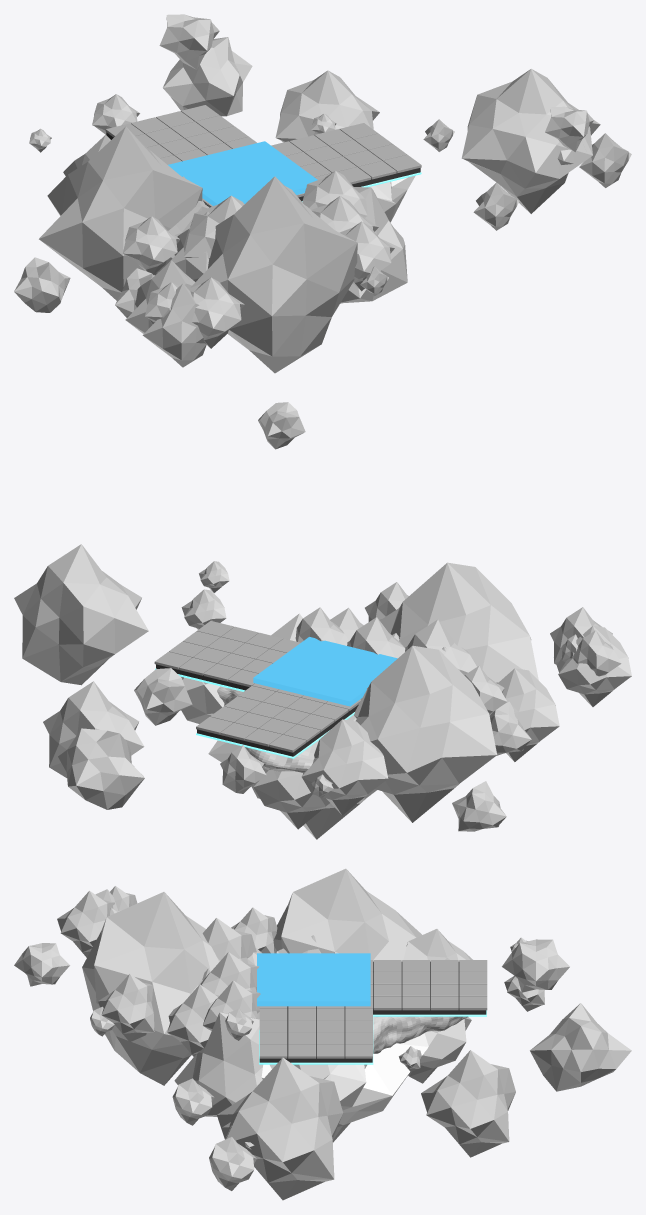
File: pulaubase1.glb
3 views of the same model, one above another, from view 1: azimuth 30°, elevation 25°; view 2: azimuth 150°, elevation 25°; view 3: azimuth 270°, elevation 25° (orthographic). The views are drawn at different scales.
Visible parts, largest first — view 1: RockAsset.008, RockAsset.016, RockAsset.029, Platform_Tiles, Cube.145, RockAsset.041, RockAsset.037, RockAsset.006, RockAsset.022, RockAsset.026, RockAsset.042, RockAsset.028 (+15 smaller); view 2: RockAsset.016, RockAsset.029, Platform_Tiles, RockAsset.008, Cube.145, RockAsset.014, RockAsset.041, RockAsset.037, RockAsset.010, RockAsset.011, RockAsset.006, RockAsset.042 (+17 smaller); view 3: RockAsset.008, Platform_Tiles, RockAsset.029, RockAsset.016, RockAsset.037, Cube.145, RockAsset.041, RockAsset.022, RockAsset.046, RockAsset.036, RockAsset.042, RockAsset.027 (+16 smaller).
Part boxes in pixels (x1,y1,x2,y2): RockAsset.008: [190, 176, 357, 373]; RockAsset.016: [39, 126, 202, 300]; RockAsset.029: [461, 69, 600, 213]; Platform_Tiles: [105, 105, 421, 207]; Cube.145: [168, 141, 317, 205]; RockAsset.041: [163, 37, 252, 116]; RockAsset.037: [275, 70, 379, 142]; RockAsset.006: [142, 283, 206, 367]; RockAsset.022: [340, 187, 407, 303]; RockAsset.026: [188, 277, 244, 348]; RockAsset.042: [159, 14, 219, 69]; RockAsset.028: [123, 216, 179, 274]; RockAsset.016: [354, 645, 497, 822]; RockAsset.029: [14, 544, 148, 685]; Platform_Tiles: [154, 621, 360, 752]; RockAsset.008: [380, 562, 538, 683]; Cube.145: [253, 637, 397, 706]; RockAsset.014: [301, 719, 388, 815]; RockAsset.041: [58, 728, 144, 809]; RockAsset.037: [43, 681, 144, 777]; RockAsset.010: [489, 668, 559, 761]; RockAsset.011: [253, 768, 329, 829]; RockAsset.006: [556, 625, 631, 706]; RockAsset.042: [134, 668, 192, 725]; RockAsset.008: [82, 892, 218, 1085]; Platform_Tiles: [259, 960, 487, 1058]; RockAsset.029: [217, 1057, 343, 1200]; RockAsset.016: [273, 868, 421, 961]; RockAsset.037: [421, 1050, 515, 1157]; Cube.145: [257, 953, 370, 1006]; RockAsset.041: [530, 1003, 631, 1091]; RockAsset.022: [174, 1012, 262, 1116]; RockAsset.046: [332, 1033, 428, 1142]; RockAsset.036: [98, 974, 154, 1041]; RockAsset.042: [502, 939, 569, 992]; RockAsset.027: [167, 984, 219, 1056].
Size of the model in its own units: 441 by 226 by 434.
